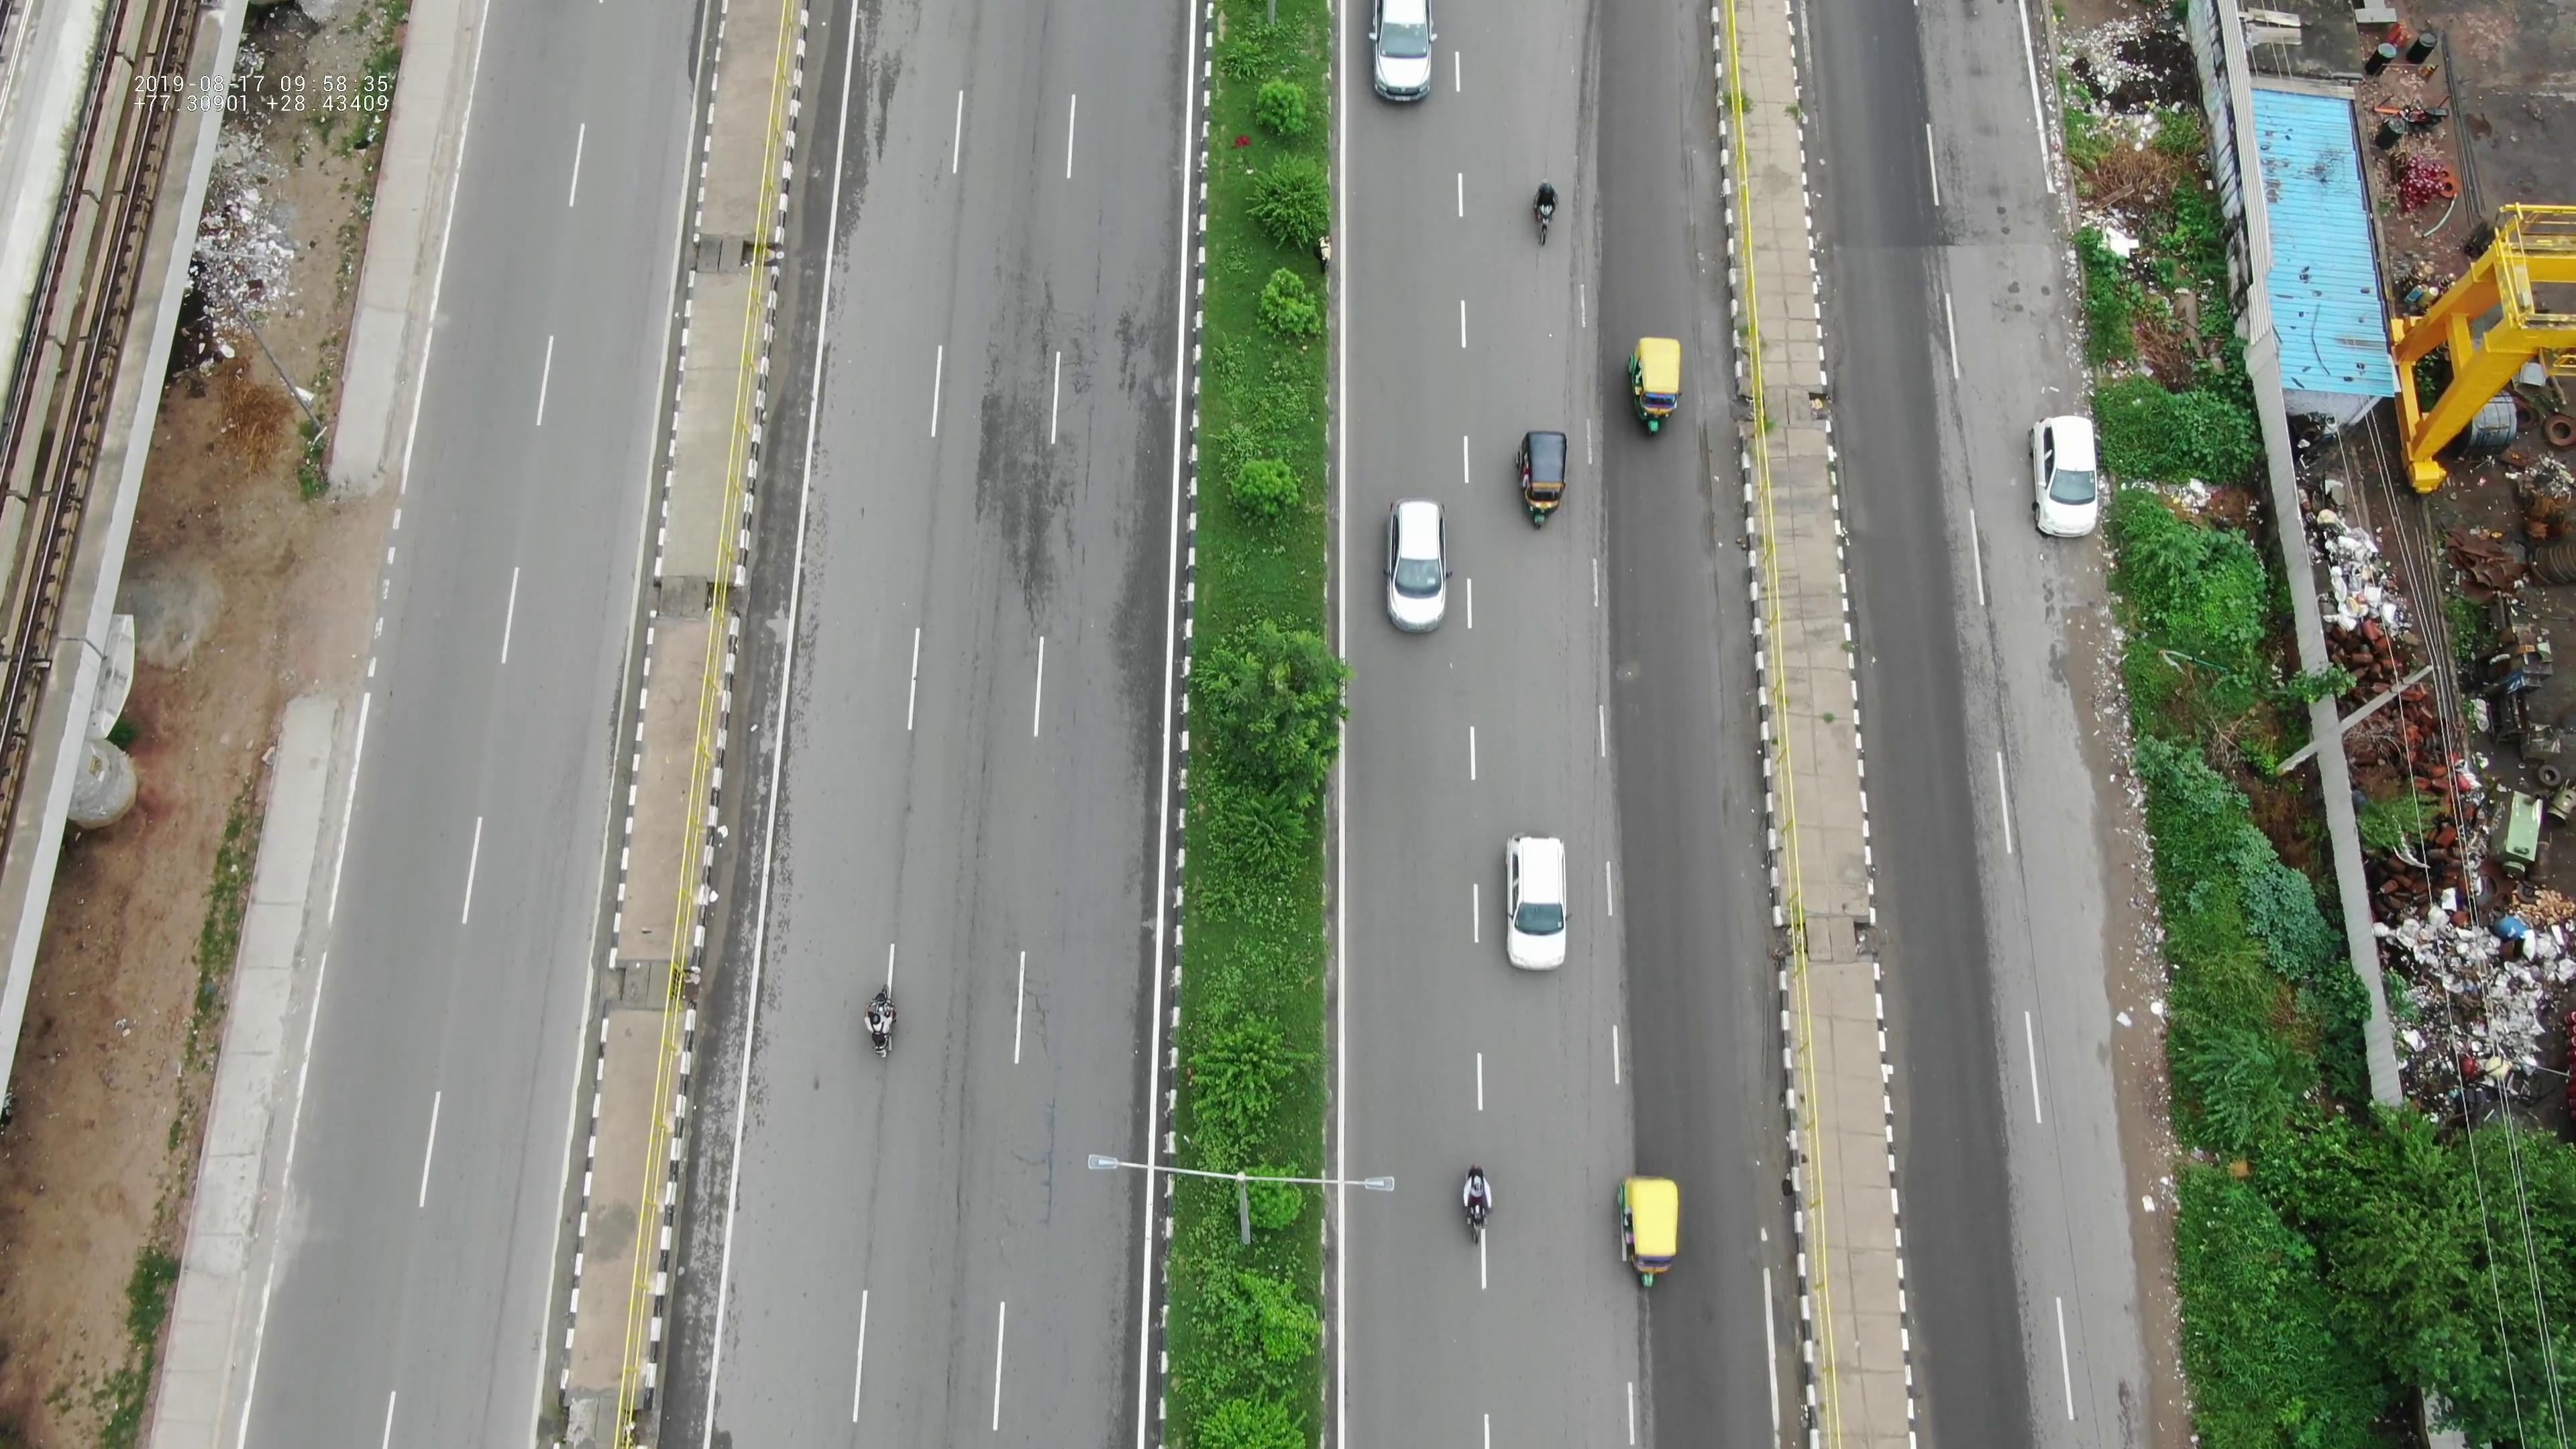Hair_cracks: (975, 237, 1129, 559), (977, 961, 1088, 1256)
Road_side_garbage: (2373, 867, 2576, 1123)
